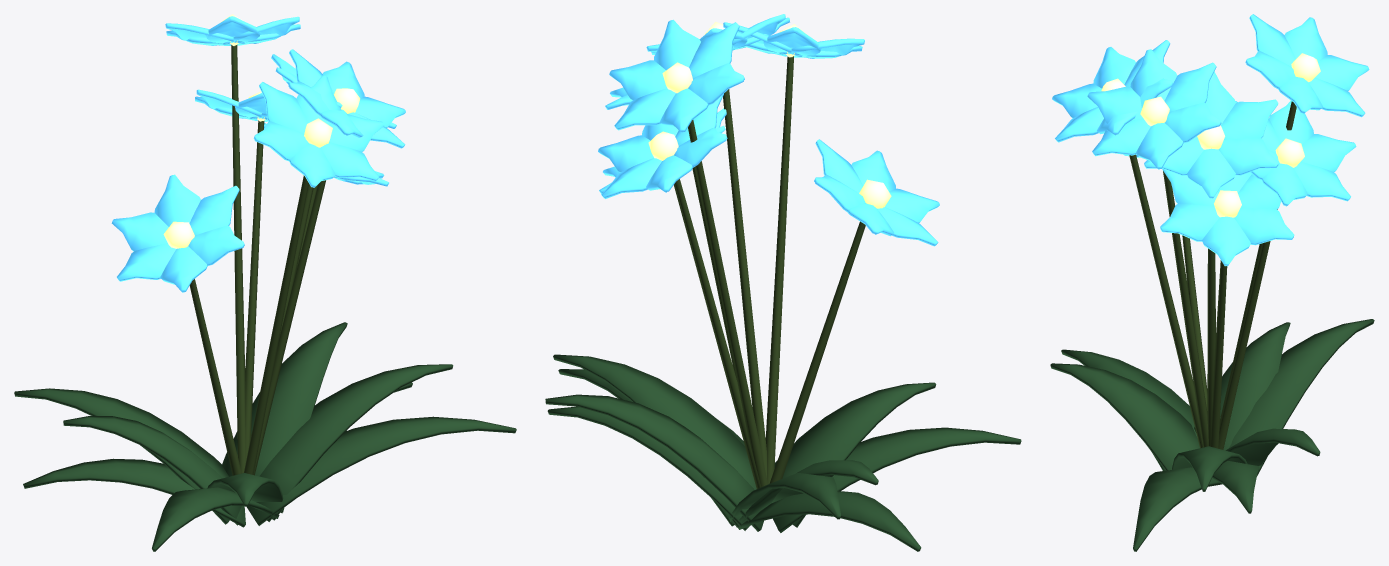
Rendered from flora_star.glb.
3 renders of one model, left to right at view 1: azimuth 30°, elevation 25°; view 2: azimuth 150°, elevation 25°; view 3: azimuth 270°, elevation 25°, orthographic. The views are drawn at different scales.
Parts seen in each view (by area): view 1: leaf_deep, petal_cyan, stem, glow_core; view 2: leaf_deep, petal_cyan, stem, glow_core; view 3: petal_cyan, leaf_deep, stem, glow_core.
Part boxes in pixels (x1=…): leaf_deep: x1=14, y1=322, x2=516, y2=551; petal_cyan: x1=111, y1=16, x2=405, y2=292; stem: x1=189, y1=45, x2=325, y2=475; glow_core: x1=163, y1=14, x2=360, y2=248; leaf_deep: x1=545, y1=354, x2=1021, y2=551; petal_cyan: x1=598, y1=14, x2=939, y2=246; stem: x1=674, y1=56, x2=865, y2=488; glow_core: x1=648, y1=21, x2=891, y2=208; petal_cyan: x1=1052, y1=14, x2=1369, y2=266; leaf_deep: x1=1050, y1=319, x2=1374, y2=551; stem: x1=1129, y1=101, x2=1296, y2=449; glow_core: x1=1101, y1=53, x2=1320, y2=217.
Bounding box in the file's own units: 0.8905 × 0.9742 × 0.6002.
